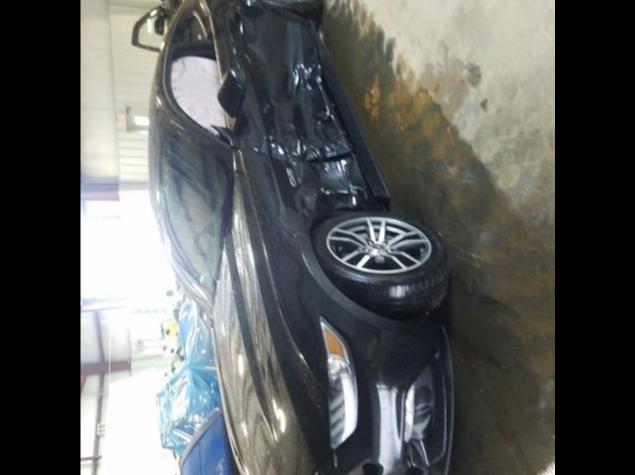Broken part: (303, 69, 375, 197), (210, 70, 246, 147), (332, 191, 385, 212)
Dent: (228, 4, 354, 235)
Missing part: (167, 46, 226, 135), (169, 12, 206, 46)
Scratch: (252, 123, 349, 190), (289, 58, 335, 128), (302, 158, 364, 204)
